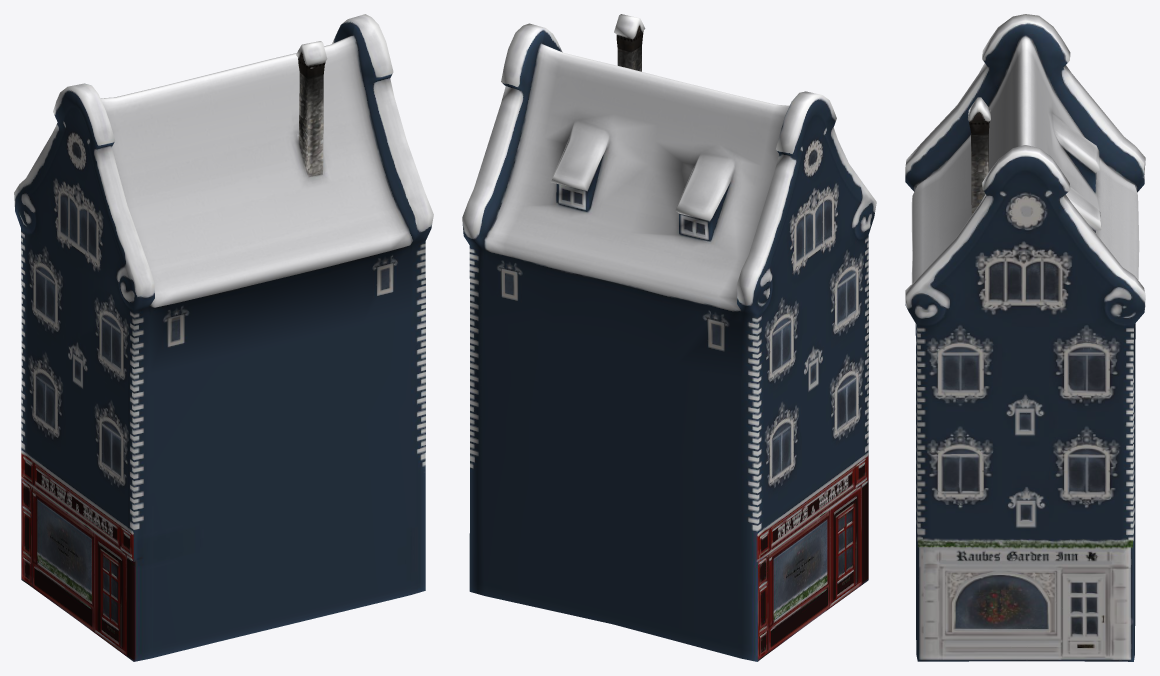
File: House-6.FBX
The picture shows the model from 3 angles, left to right: view 1: azimuth 30°, elevation 25°; view 2: azimuth 150°, elevation 25°; view 3: azimuth 270°, elevation 25°; orthographic projection. The views are drawn at different scales.
Parts seen in each view (by area): view 1: House-6; view 2: House-6; view 3: House-6.
Part boxes in pixels (box(x1,y1,x2,y2)): House-6: box(14, 14, 433, 661); House-6: box(462, 14, 876, 661); House-6: box(905, 14, 1145, 661).
Size of the model in its own units: 30.94 by 53.47 by 22.31.
1 material, 1 textured.
